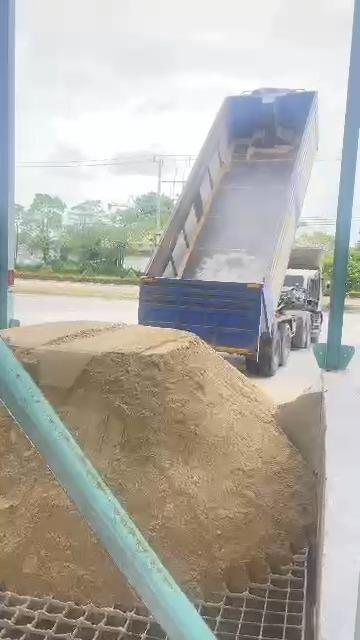sand: (3, 323, 313, 595), (0, 409, 134, 604), (276, 389, 324, 475)
